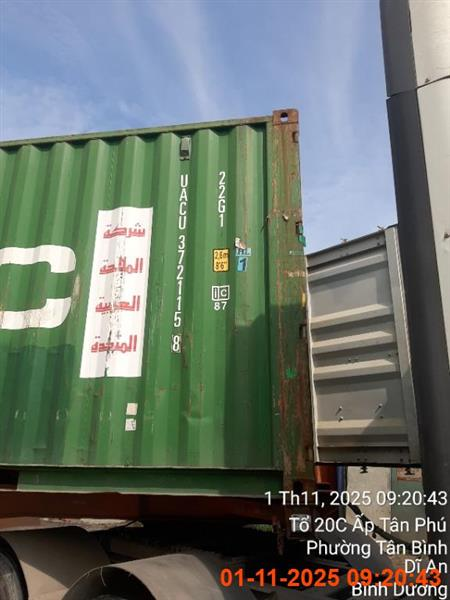broken: (1, 5, 446, 599)
